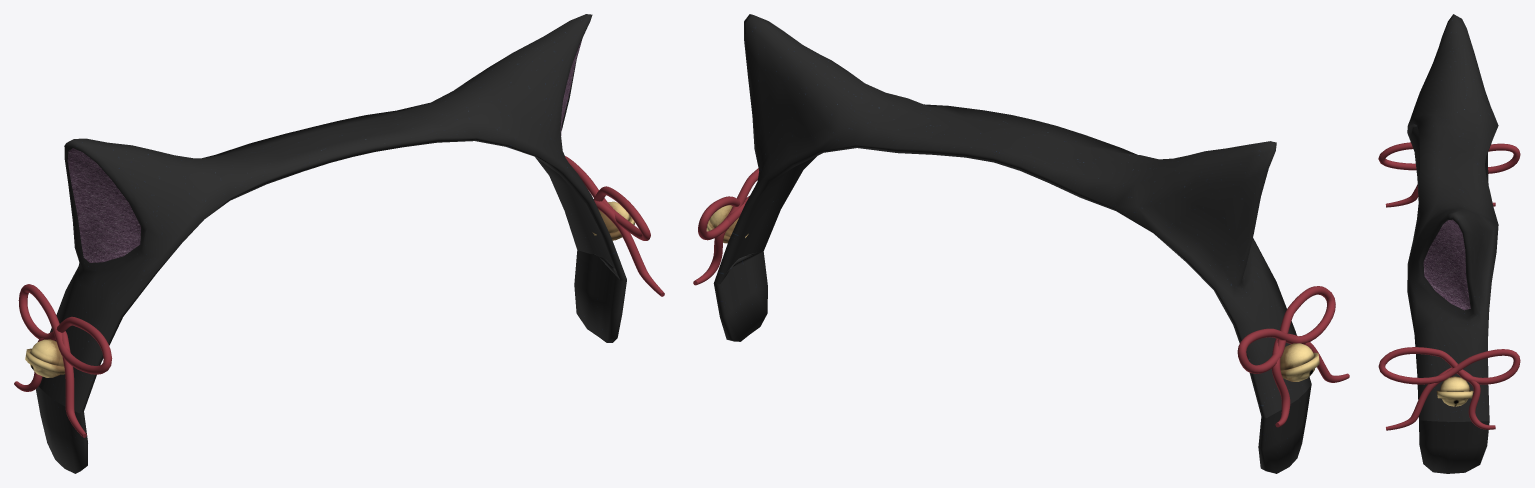
Rendered from Cat_Ears.glb.
The picture shows the model from 3 angles, left to right: view 1: azimuth 30°, elevation 25°; view 2: azimuth 150°, elevation 25°; view 3: azimuth 270°, elevation 25°; orthographic projection. The views are drawn at different scales.
Parts seen in each view (by area): view 1: Cat_Ears; view 2: Cat_Ears; view 3: Cat_Ears.
Boxes of the visible parts, bbox=[...] form: Cat_Ears: bbox=[14, 14, 664, 473]; Cat_Ears: bbox=[693, 14, 1349, 473]; Cat_Ears: bbox=[1378, 14, 1520, 473].
Size of the model in its own units: 1.11 by 0.5667 by 0.2855.
4 materials, 4 textured.
